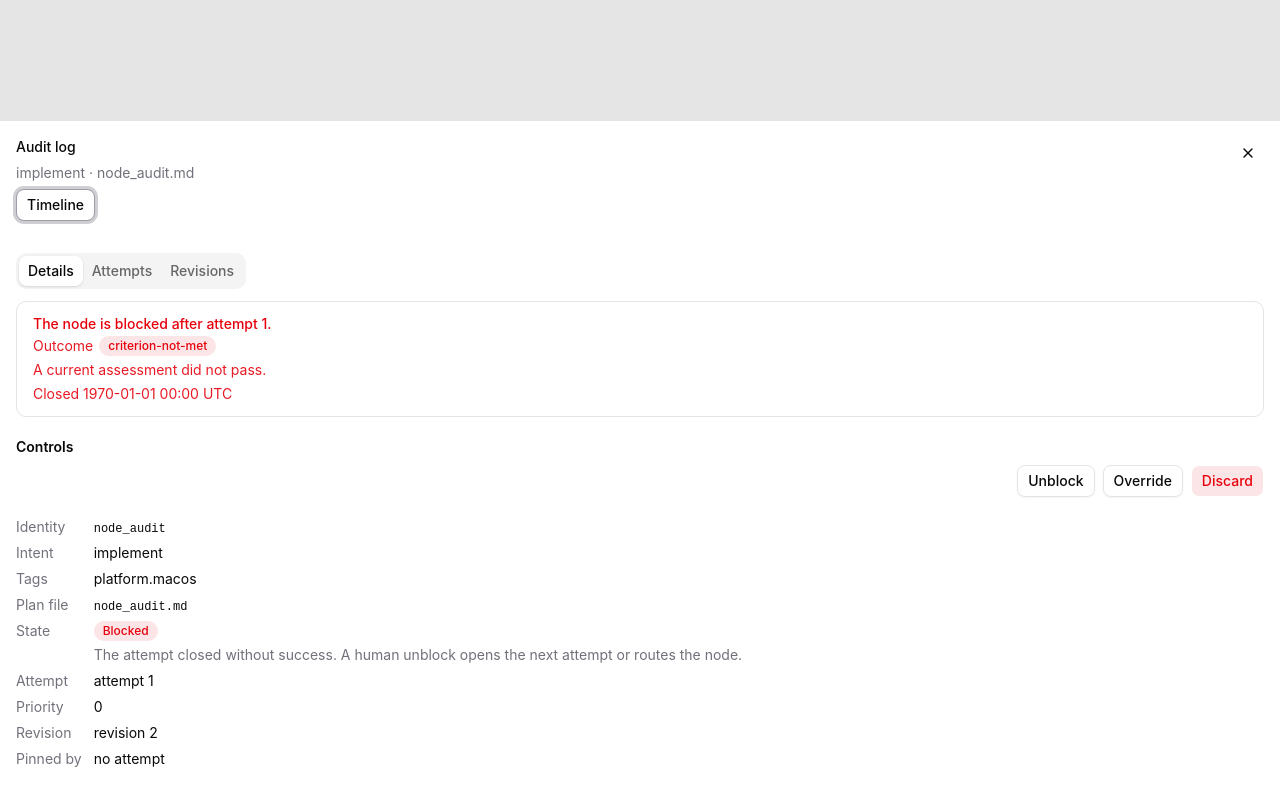
it: NodeSheet › shows the end of the last execution and its cause on the attempt from one read
Click the tab "Attempts" at (122, 271), box [83, 256, 161, 286]
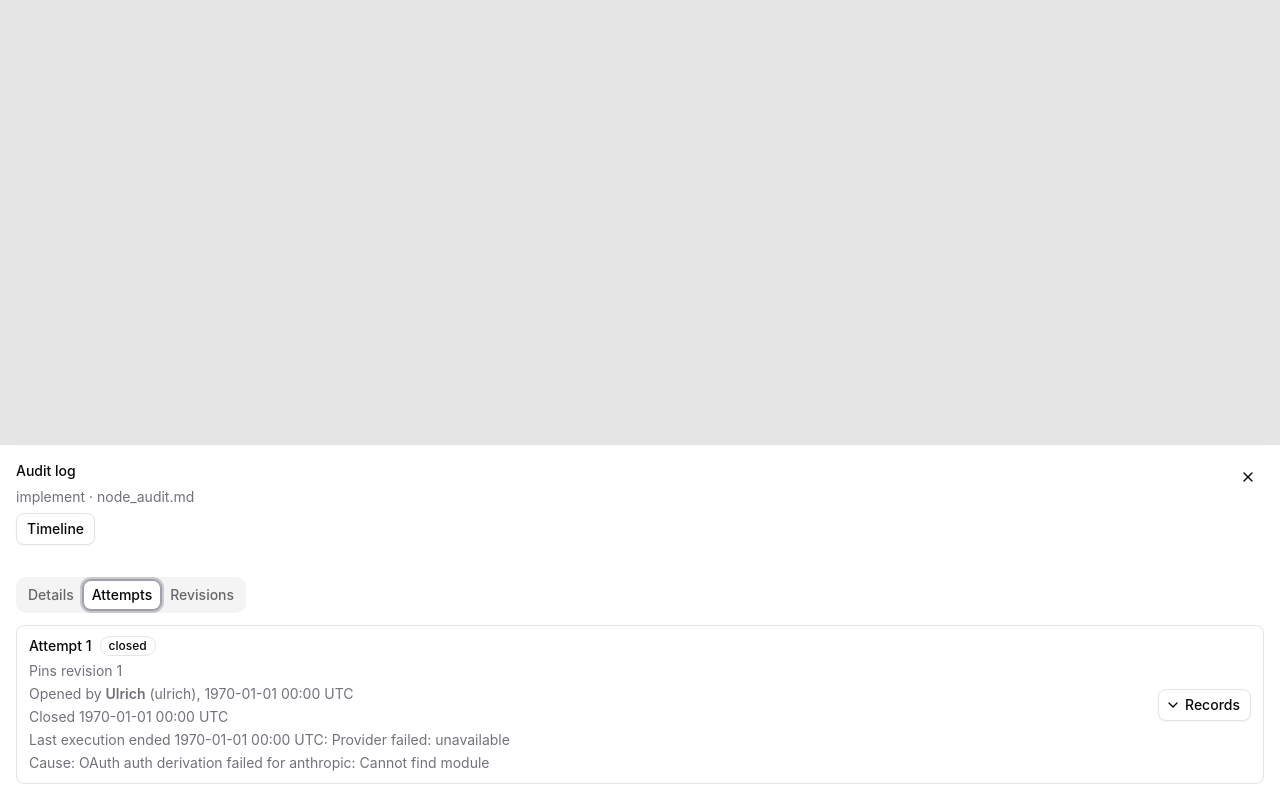
Check: the text "Cause: OAuth auth derivation failed for anthropic: Cannot find module" is shown, box [29, 754, 490, 771]
Click the button with aria-label "Records of attempt 1" at (1204, 704), box [1158, 688, 1251, 720]
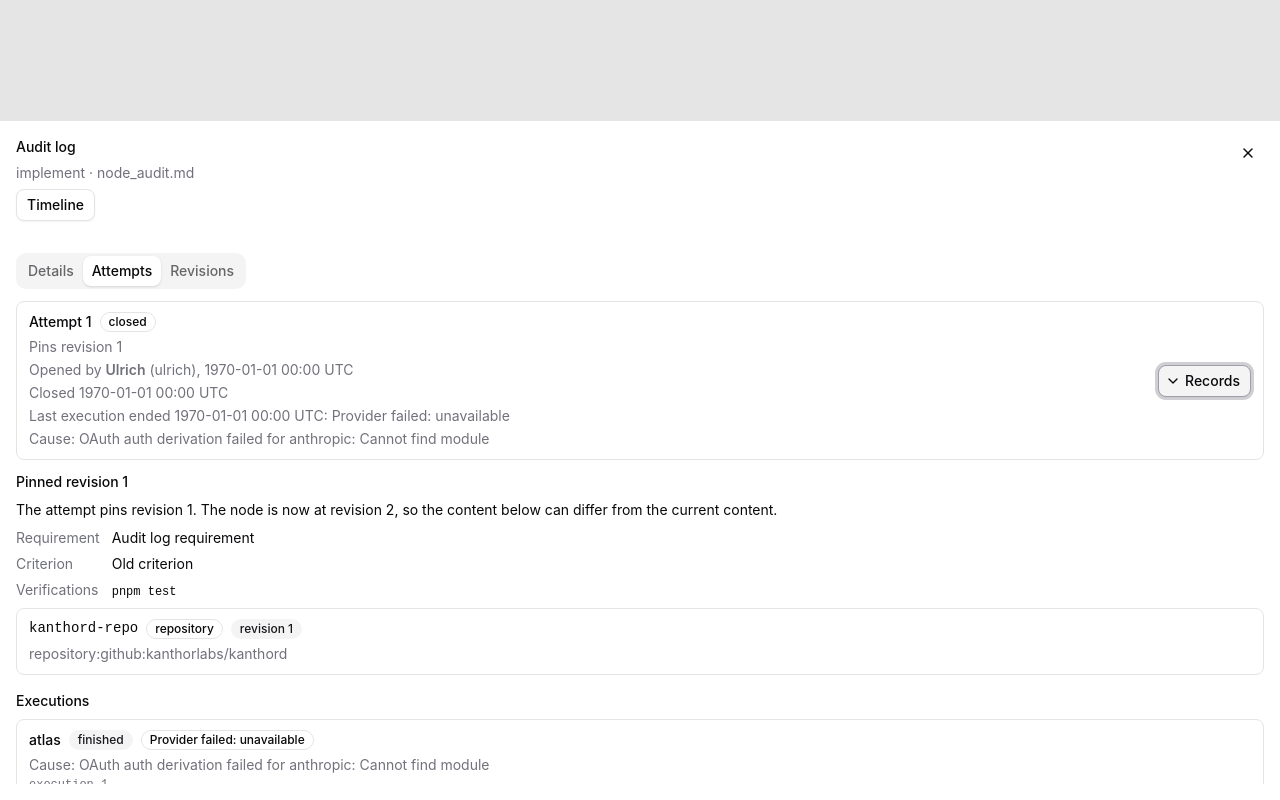
Check: the text "Cause: OAuth auth derivation failed for anthropic: Cannot find module" below "atlas" is shown, box [29, 756, 490, 773]
